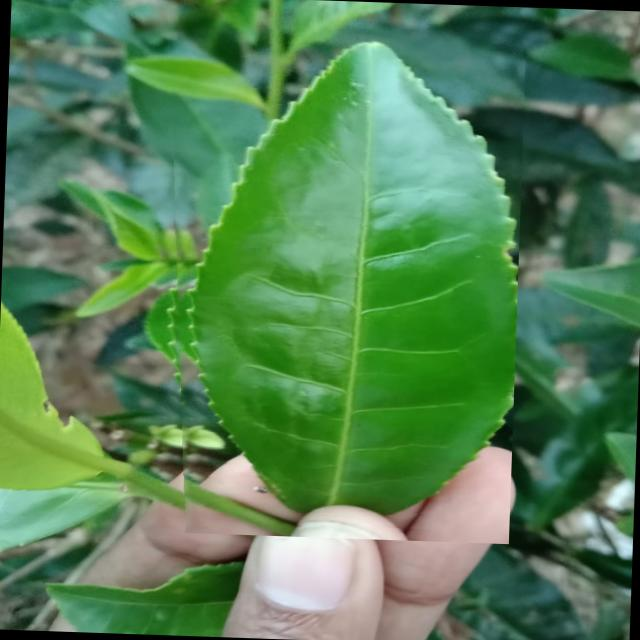Category C 4-7 days: (150, 16, 526, 544)
